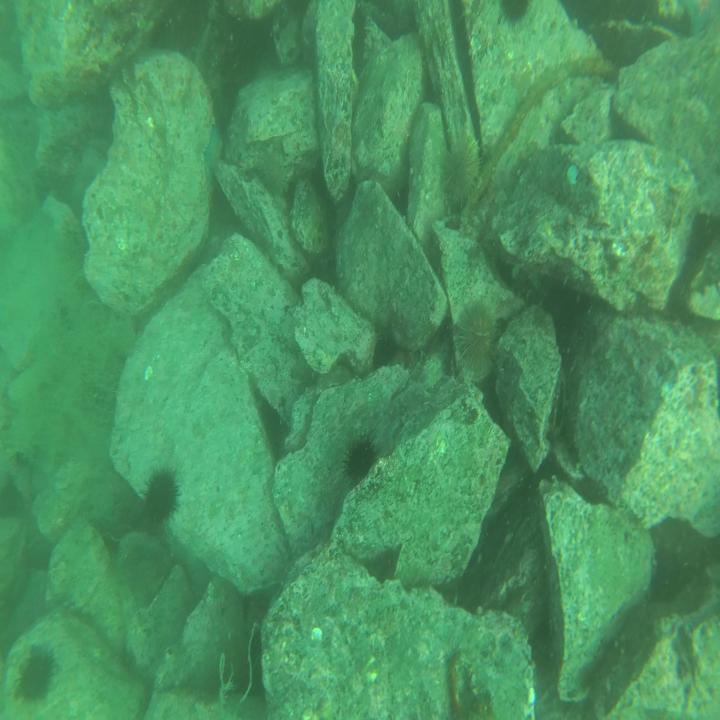echinus: (457, 304, 495, 376), (442, 134, 478, 206), (145, 472, 179, 526), (20, 653, 54, 702), (347, 435, 375, 486), (500, 0, 532, 28)
